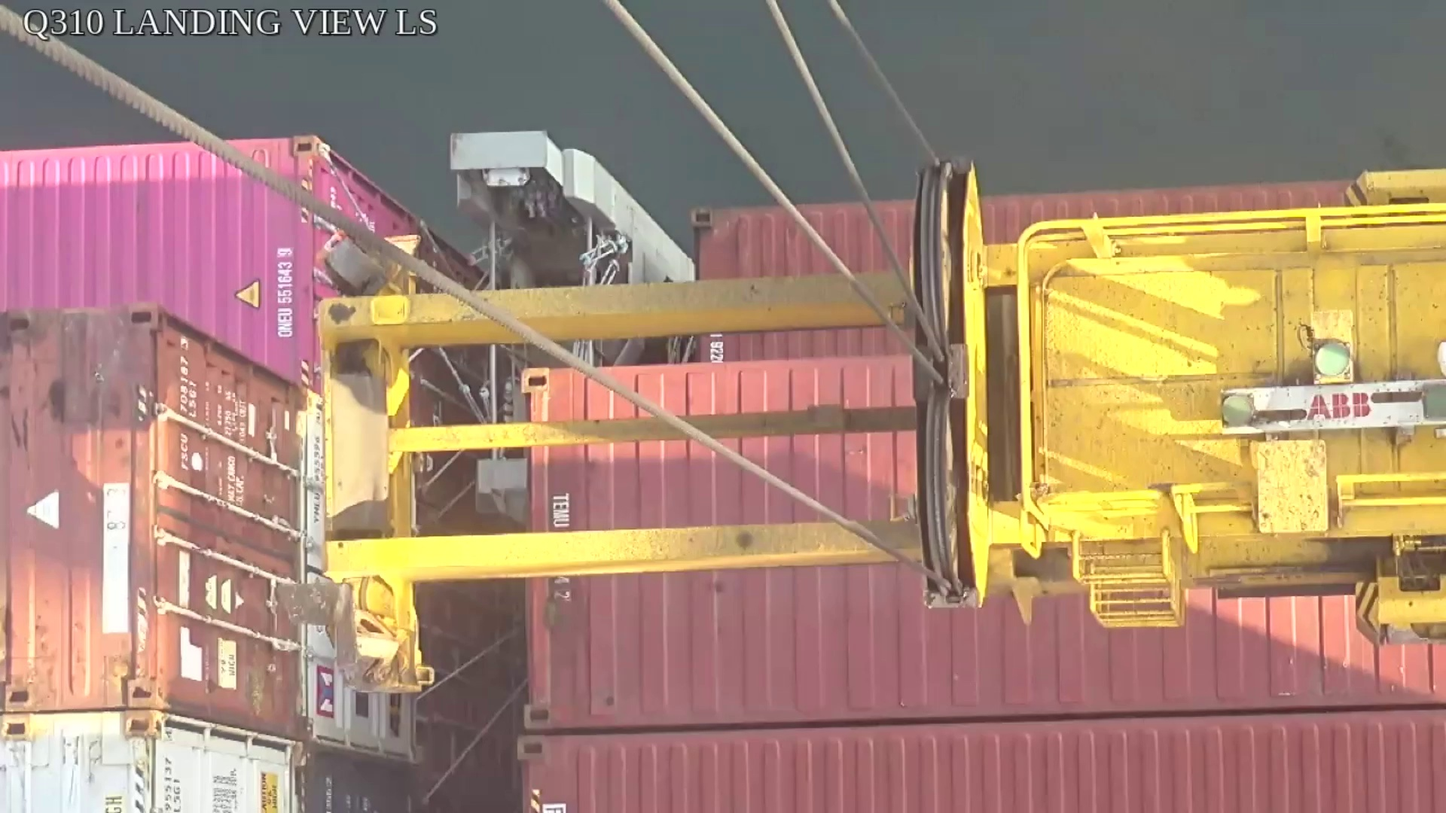aa: (910, 157, 993, 613)
